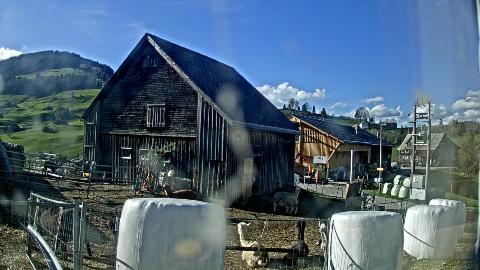car: (390, 165, 402, 173), (418, 162, 426, 166)
sheep: (40, 207, 92, 259), (237, 222, 269, 268), (283, 219, 310, 265), (273, 185, 301, 211), (162, 183, 198, 201), (345, 193, 369, 211), (316, 220, 330, 250), (40, 160, 64, 176), (280, 197, 298, 214), (252, 176, 256, 184)
